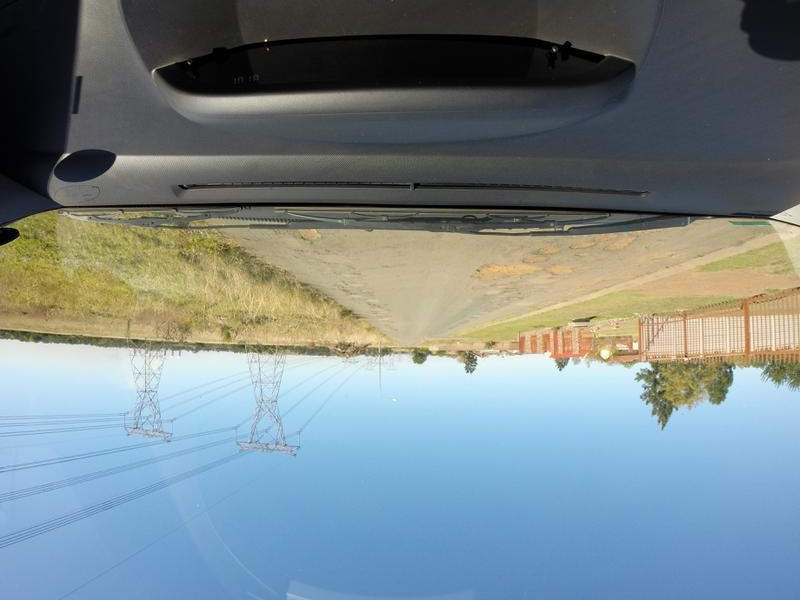pothole: (464, 256, 546, 291), (603, 234, 645, 257), (549, 262, 583, 284), (292, 229, 327, 249), (650, 246, 689, 263), (569, 237, 600, 250), (533, 246, 565, 257)
